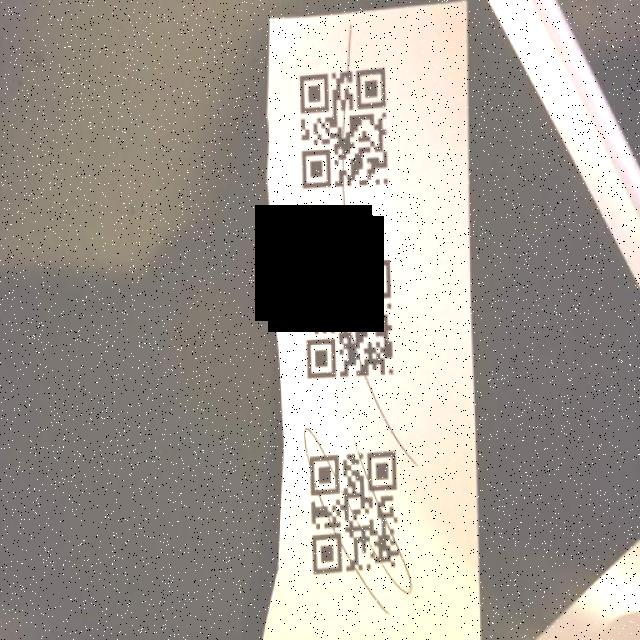QR_CODE: (301, 438, 410, 584), (295, 246, 406, 388), (290, 60, 395, 204)
